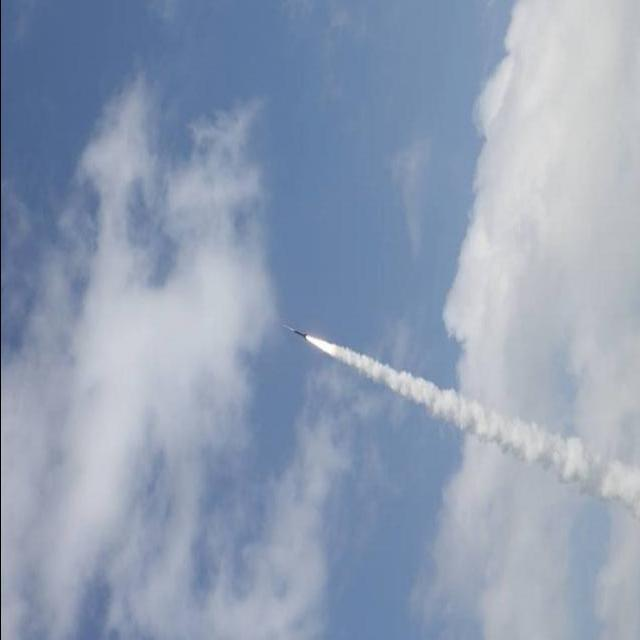Missile: (279, 317, 309, 347)
